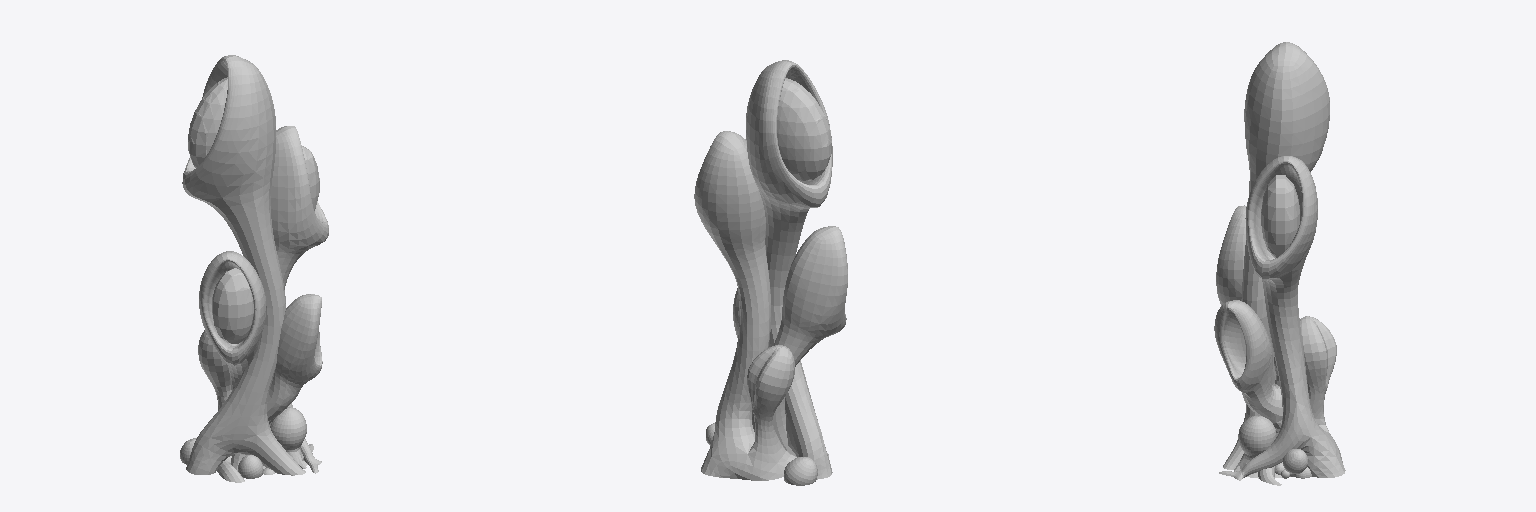
File: tree1.obj
3 views of the same model, side by side, from view 1: azimuth 30°, elevation 25°; view 2: azimuth 150°, elevation 25°; view 3: azimuth 270°, elevation 25° (orthographic).
Visible parts, largest first — view 1: AlienPlant01, Mball; view 2: AlienPlant01, Mball; view 3: AlienPlant01, Mball.
Boxes of the visible parts, x1,y1,x2,y2 form: AlienPlant01: [180, 55, 328, 482]; Mball: [188, 77, 319, 343]; AlienPlant01: [694, 60, 847, 485]; Mball: [777, 78, 831, 180]; AlienPlant01: [1214, 42, 1345, 485]; Mball: [1261, 175, 1299, 257].
Bounding box in the file's own units: 14.79 × 42.54 × 12.52.